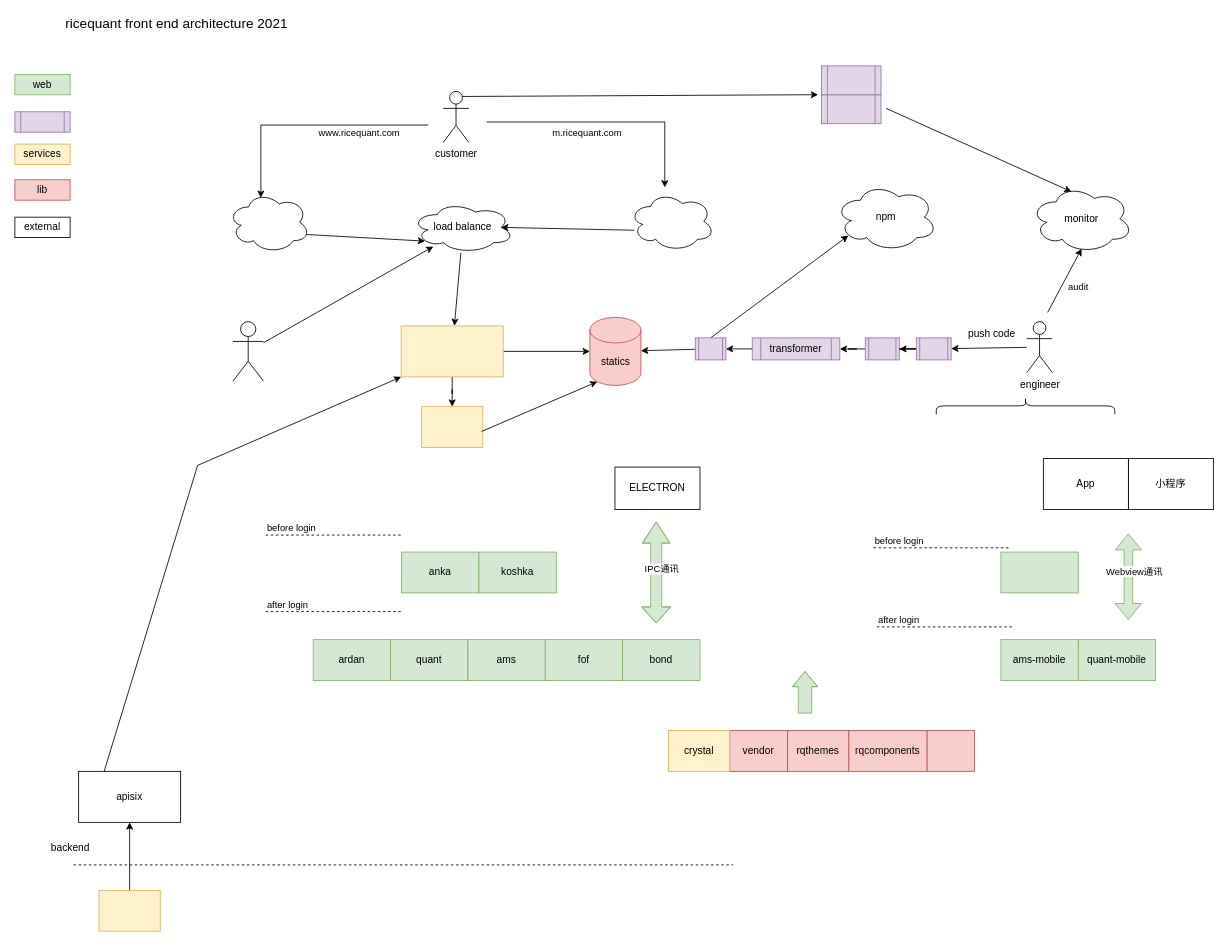
The diagram is 1228 pixels wide and 946 high, and some of its shapes have lost their labels. The centre of each missing label's shape, as x and y in pixels:
"anka-mobile" belongs at point (1039, 572).
"assets.ricequant.com" belongs at point (268, 222).
"celeste" belongs at point (452, 426).
"crawler" belongs at point (248, 351).
"function" belongs at point (42, 121).
"growingio" belongs at point (851, 80).
"jest" belongs at point (881, 348).
"lint" belongs at point (933, 348).
"m.assets.ricequant.com" belongs at point (671, 221).
"micro" belongs at point (129, 910).
"multiple nginx" belongs at point (451, 351).
"rqutil" belongs at point (950, 750).
"sentry" belongs at point (851, 109).
"sync" belongs at point (710, 348).
